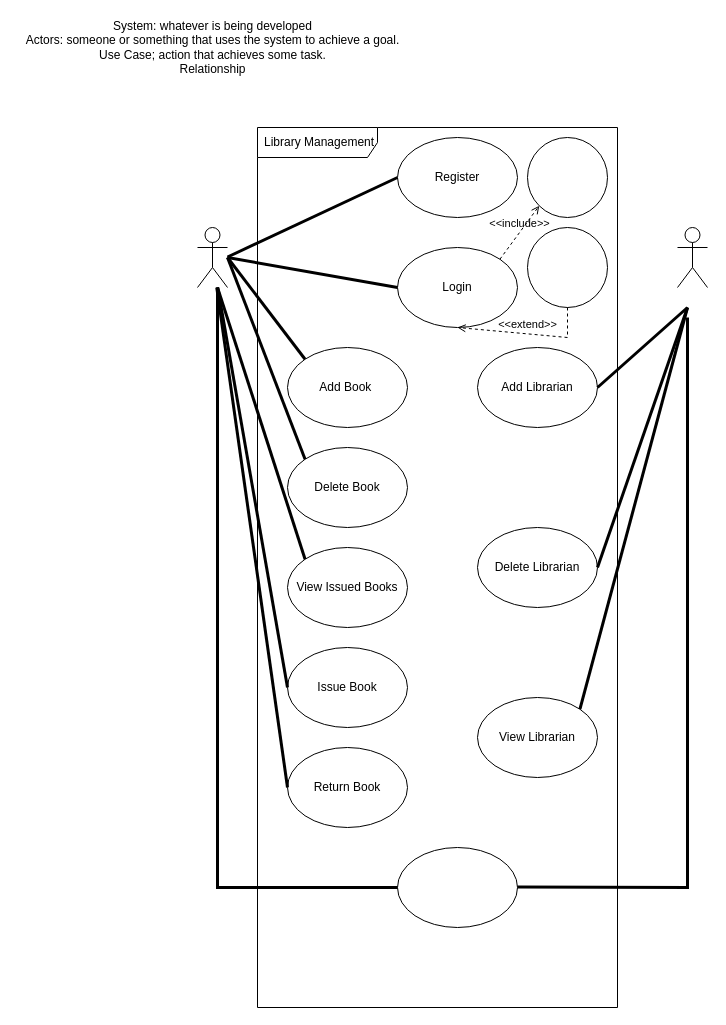
Some shapes in this 726 by 1025 pixel diagram are drawn without their labels. The centre of each missing label's shape, as x and y in pixels:
Admin: point 692,257
Display Login Error: point 567,267
Librarian: point 212,257
Logout: point 457,887
Verify Password: point 567,177
